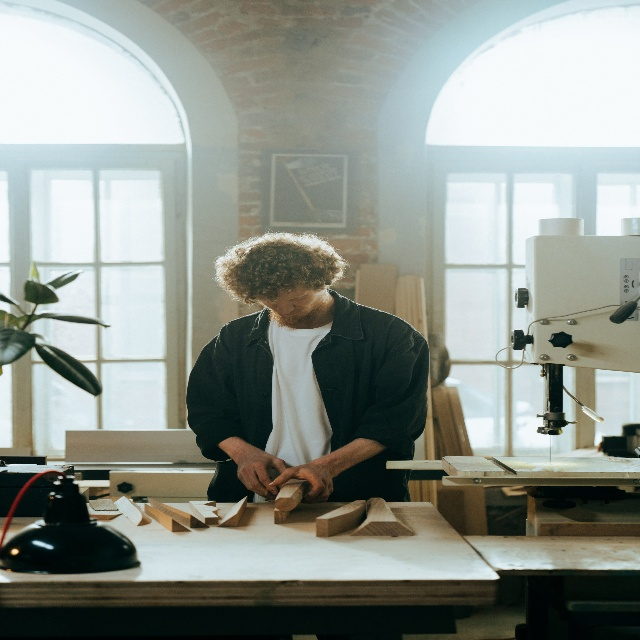Sin_guantes: (235, 442, 288, 499), (268, 459, 335, 503)
